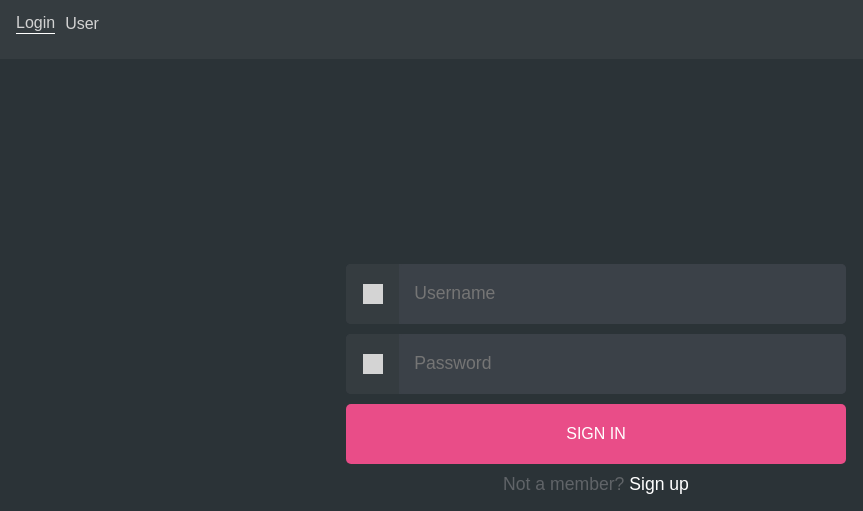
example to-do app › should have error at email and password field after click "Sign In" button
Click the button "Sign in". click: (596, 434)
box: left=346, top=404, right=846, bottom=464
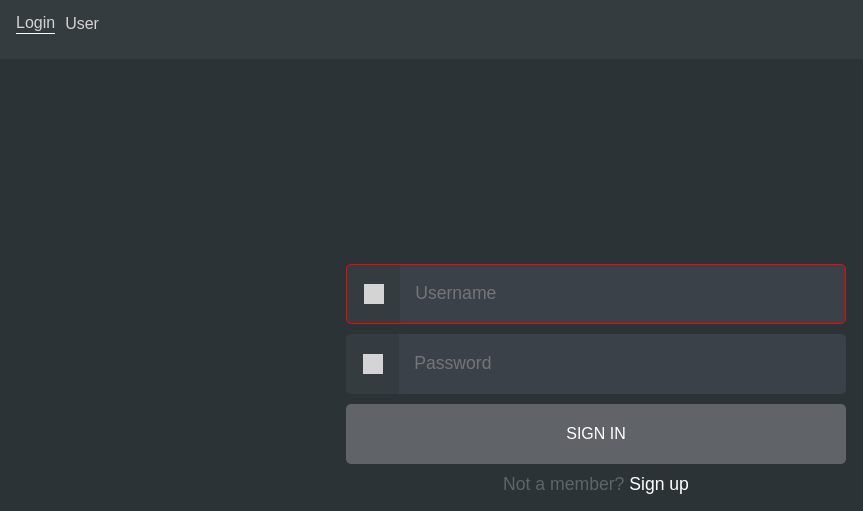
Result: the button "Sign in" is disabled at left=346, top=404, right=846, bottom=464
